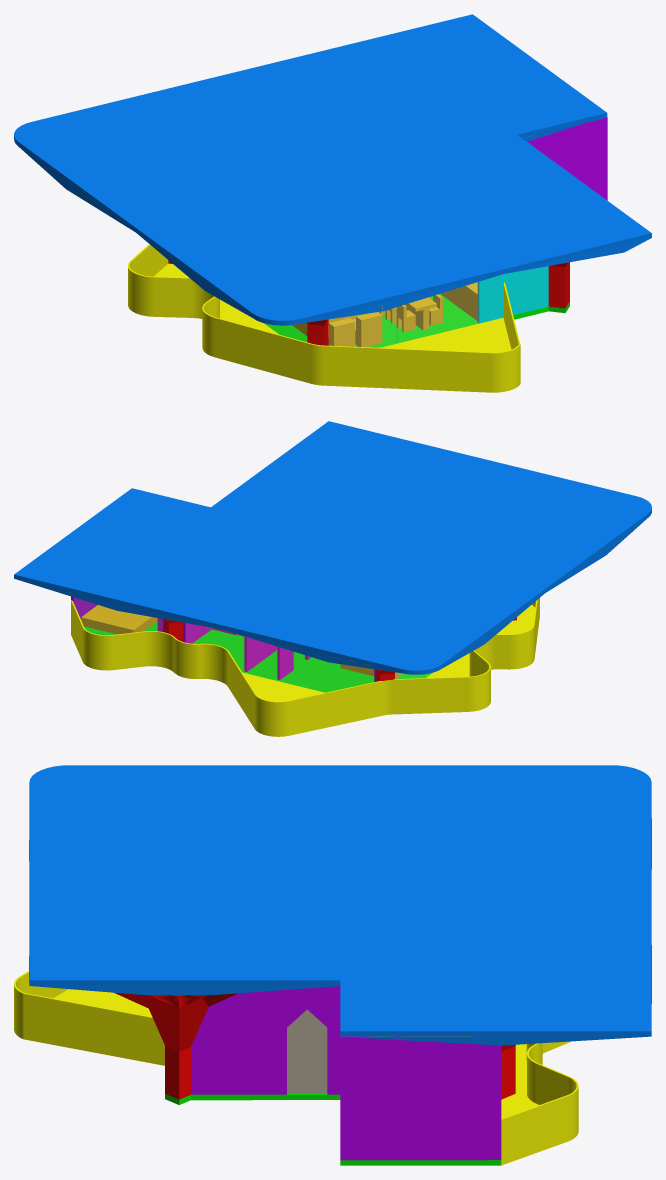
Rendered from ROOM4.glb.
3 renders of one model, top to bottom at view 1: azimuth 30°, elevation 25°; view 2: azimuth 150°, elevation 25°; view 3: azimuth 270°, elevation 25°, orthographic. The views are drawn at different scales.
Parts seen in each view (by area): view 1: top slabs, balconies, glasses, furniture, external walls, floors, columns; view 2: top slabs, balconies, glasses, floors, furniture, internal walls, columns; view 3: top slabs, external walls, balconies, columns, DOORS, floors.
Boxes of the visible parts, x1,y1,x2,y2 form: top slabs: [14, 14, 651, 325]; balconies: [128, 244, 520, 392]; glasses: [266, 266, 548, 347]; furniture: [292, 282, 477, 347]; external walls: [527, 117, 607, 200]; floors: [264, 294, 569, 347]; columns: [168, 260, 569, 345]; top slabs: [14, 421, 651, 674]; balconies: [71, 598, 539, 736]; glasses: [74, 598, 431, 692]; floors: [84, 621, 432, 692]; furniture: [81, 605, 402, 679]; internal walls: [157, 618, 310, 679]; columns: [164, 617, 516, 681]; top slabs: [29, 765, 651, 1045]; external walls: [191, 986, 501, 1160]; balconies: [14, 971, 578, 1165]; columns: [114, 992, 515, 1099]; DOORS: [287, 1009, 393, 1093]; floors: [165, 1094, 501, 1165].
Size of the model in its own units: 15.64 by 3.68 by 15.85.
